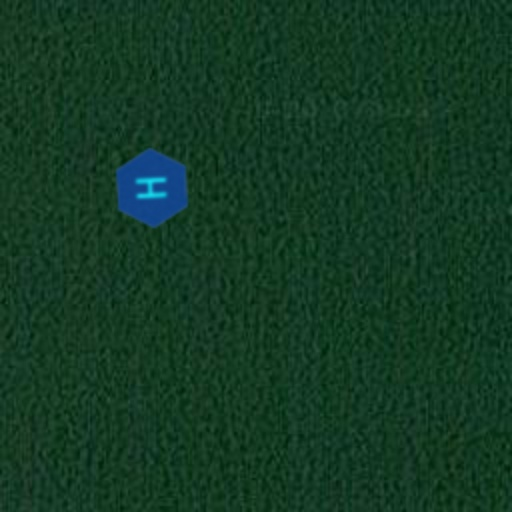hexagon: (108, 144, 196, 232)
